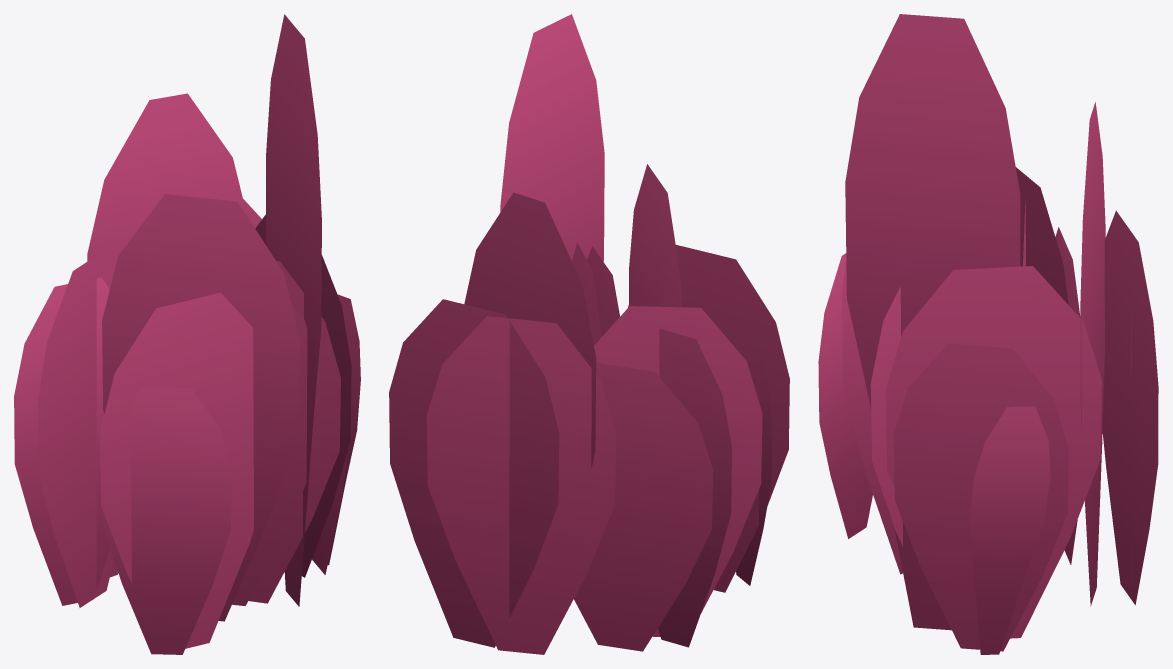
The model's file is Gramas.fbx.
3 renders of one model, left to right at view 1: azimuth 30°, elevation 25°; view 2: azimuth 150°, elevation 25°; view 3: azimuth 270°, elevation 25°, orthographic. The views are drawn at different scales.
Visible parts, largest first — view 1: Grama 1, Grama 3, Grama 2; view 2: Grama 3, Grama 2, Grama 1; view 3: Grama 1, Grama 3, Grama 2.
Part boxes in pixels (bbox=[...]): Grama 1: bbox=[14, 14, 360, 654]; Grama 3: bbox=[38, 214, 351, 648]; Grama 2: bbox=[110, 199, 346, 605]; Grama 3: bbox=[426, 243, 789, 654]; Grama 2: bbox=[389, 246, 713, 651]; Grama 1: bbox=[464, 14, 772, 647]; Grama 1: bbox=[818, 14, 1105, 654]; Grama 3: bbox=[870, 167, 1158, 638]; Grama 2: bbox=[893, 227, 1131, 651].
Bounding box in the file's own units: 79.04 × 132 × 66.34.
3 materials, 3 textured.
